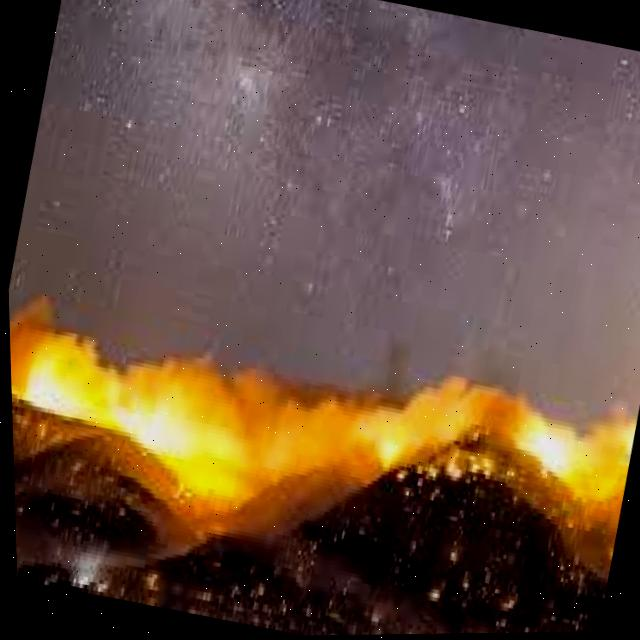smoke: (7, 0, 640, 418)
